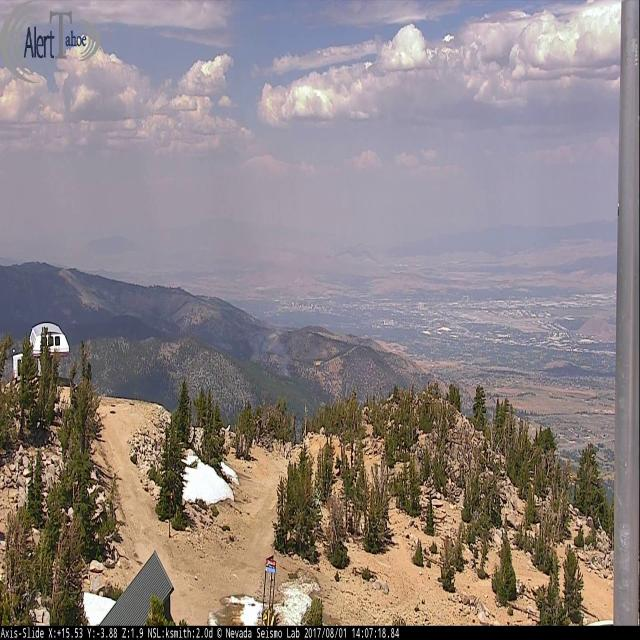smoke: (246, 324, 294, 380)
